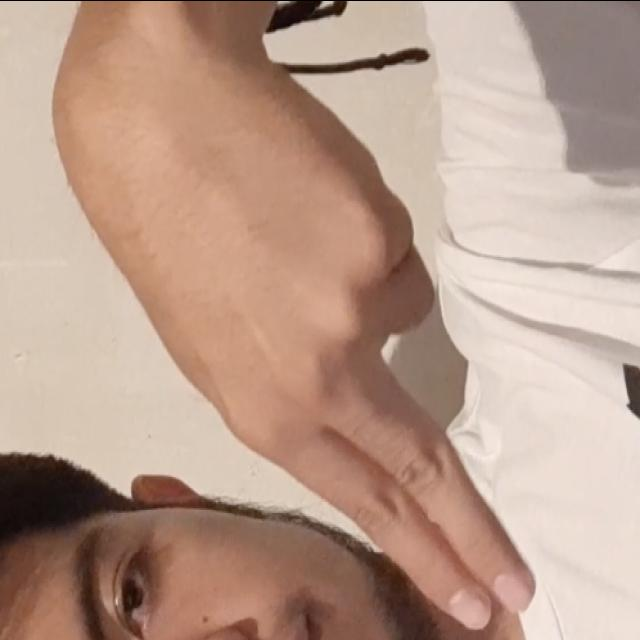N: (37, 10, 544, 638)
